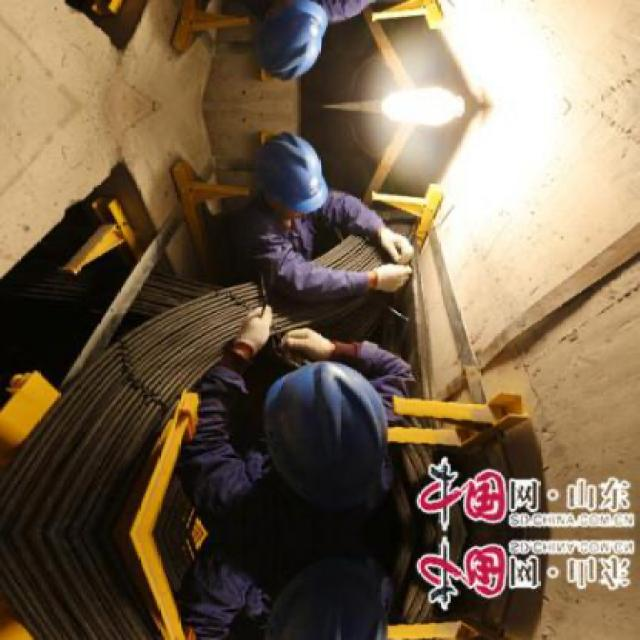helmet: (258, 358, 396, 515), (257, 552, 395, 639), (251, 134, 329, 227), (249, 0, 329, 80)
